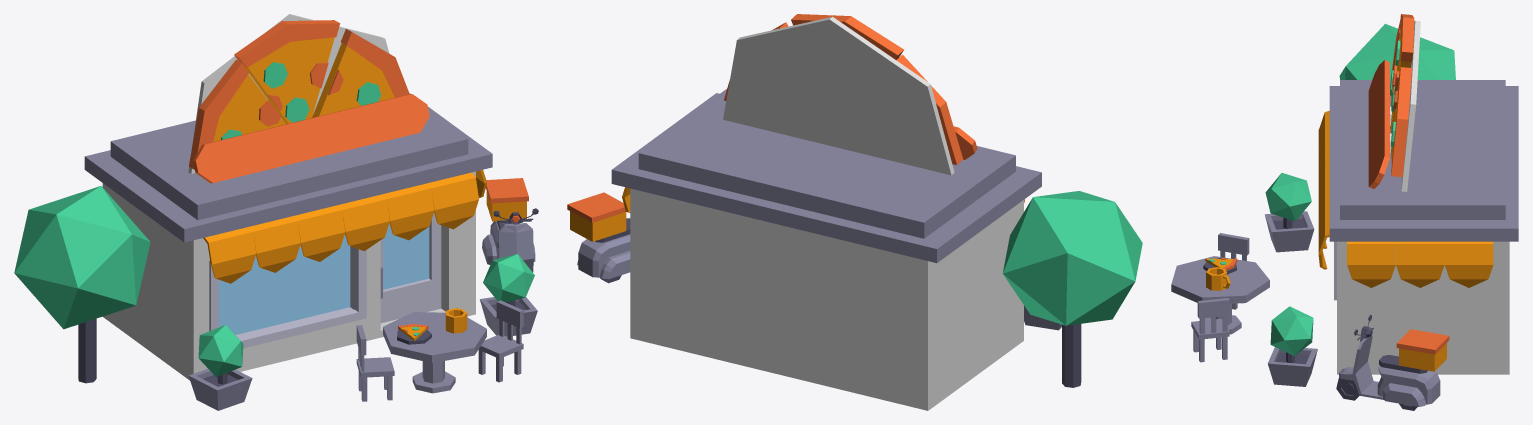
Rendered from Pizza.glb.
3 views of the same model, side by side, from view 1: azimuth 30°, elevation 25°; view 2: azimuth 150°, elevation 25°; view 3: azimuth 270°, elevation 25° (orthographic). The views are drawn at different scales.
Parts seen in each view (by area): view 1: Cube.259, Cube.261, Icosphere.003, Circle.101, Cube.260, Cube.258, Cube.266, Plane.007, Circle.083, Cube.267, Plane.015, Plane.012 (+21 smaller); view 2: Cube.259, Cube.261, Circle.100, Icosphere.003, Cube.260, G_Scooter_MAT_Base_0, Circle.105, Plane.012, Cube.264, Cube.265, Plane.014; view 3: Cube.261, Cube.259, Cube.260, Circle.104, G_Scooter_MAT_Base_0, Icosphere.003, Circle.083, Cube.258, Circle.101, Icosphere.004, Icosphere.005, Cube.262 (+12 smaller).
Part boxes in pixels (x1,y1,x2,y2): Cube.259: (102, 171, 475, 380); Cube.261: (110, 110, 468, 220); Icosphere.003: (14, 186, 150, 329); Circle.101: (203, 172, 478, 283); Cube.260: (84, 93, 492, 242); Cube.258: (193, 94, 429, 183); Cube.266: (380, 213, 441, 323); Plane.007: (245, 37, 334, 124); Circle.083: (383, 312, 486, 362); Cube.267: (209, 234, 366, 348); Plane.015: (312, 43, 394, 117); Plane.012: (234, 20, 340, 67); Cube.259: (630, 188, 1023, 410); Cube.261: (638, 89, 1015, 238); Circle.100: (723, 16, 954, 175); Icosphere.003: (1002, 191, 1142, 325); Cube.260: (611, 93, 1041, 263); G_Scooter_MAT_Base_0: (577, 218, 630, 279); Circle.105: (1062, 324, 1081, 387); Plane.012: (791, 14, 903, 59); Cube.264: (567, 192, 625, 222); Cube.265: (570, 211, 626, 241); Plane.014: (896, 54, 962, 164); Cube.261: (1340, 80, 1505, 219); Cube.259: (1337, 241, 1509, 374); Cube.260: (1329, 86, 1518, 241); Circle.104: (1347, 241, 1493, 287); G_Scooter_MAT_Base_0: (1339, 315, 1440, 406); Icosphere.003: (1339, 23, 1455, 79); Circle.083: (1171, 256, 1269, 303); Cube.258: (1368, 60, 1389, 188); Circle.101: (1318, 111, 1329, 269); Icosphere.004: (1270, 306, 1313, 355); Icosphere.005: (1265, 173, 1311, 221); Cube.262: (1267, 347, 1317, 386).
Size of the model in its own units: 8.52 by 4.71 by 5.15.
